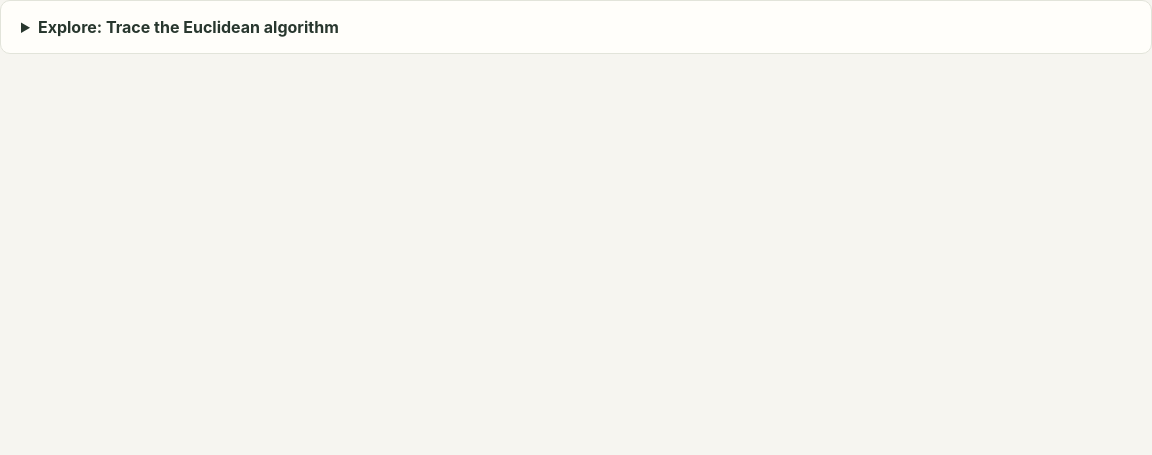
Test: shows Euclidean division preserving the GCD and restarts the trace for a new pair
Later steps or results of the test are not shown.
Click the heading "Explore: Trace the Euclidean algorithm": (188, 27) [38, 17, 339, 37]
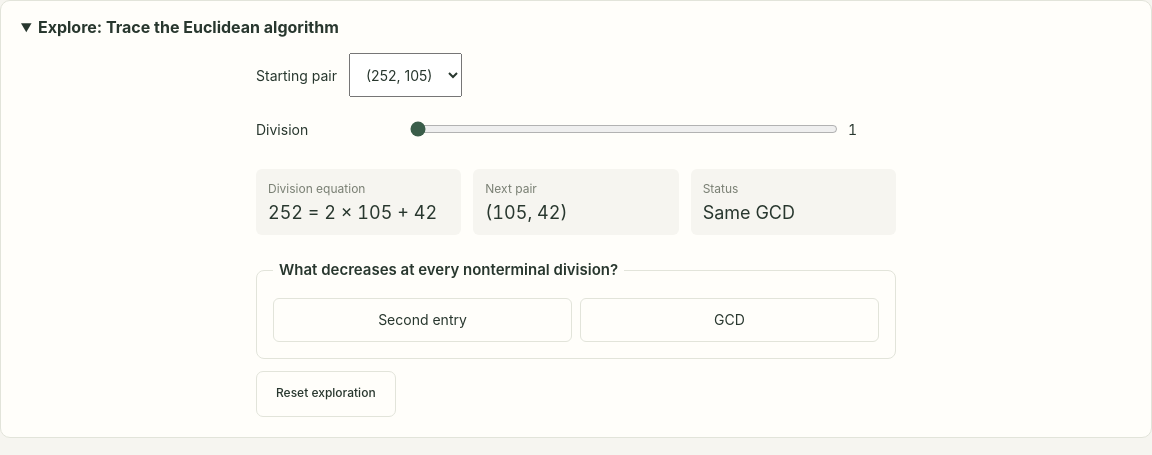
Set the slider labelled "Division" to "3": (830, 129) [410, 107, 838, 151]
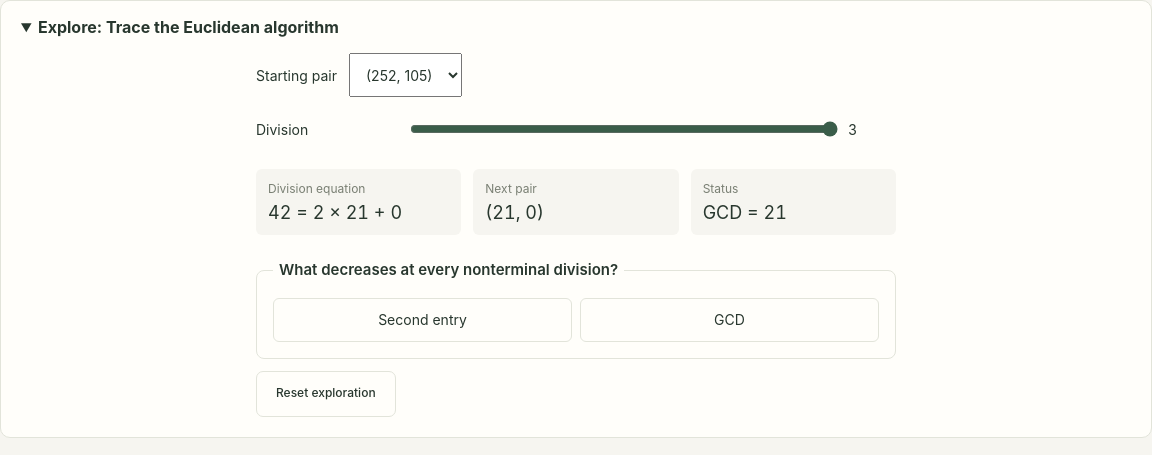
Check: the text "GCD = 21" is shown, box [703, 202, 787, 223]
